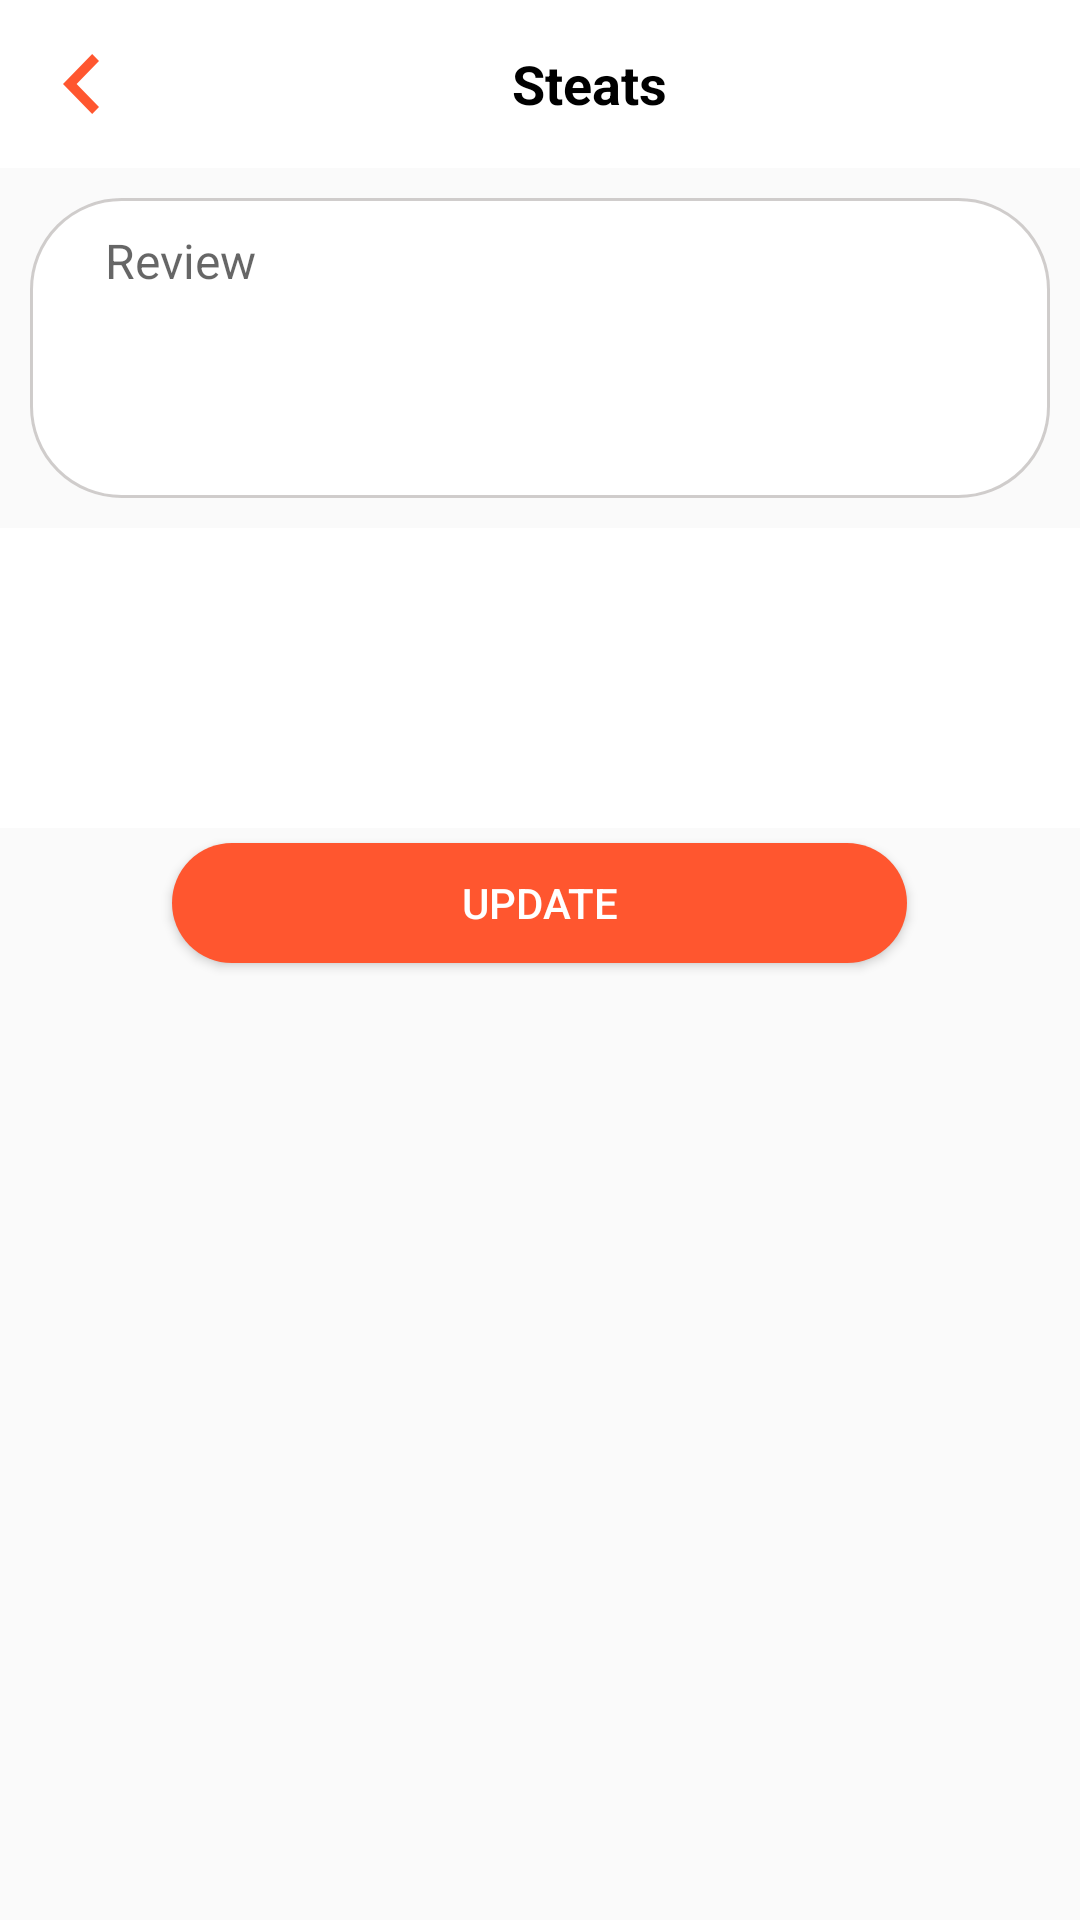

Named icons in this screenshot (1080 × 1920) and their centers, [x,y]:
back: [81,84]
